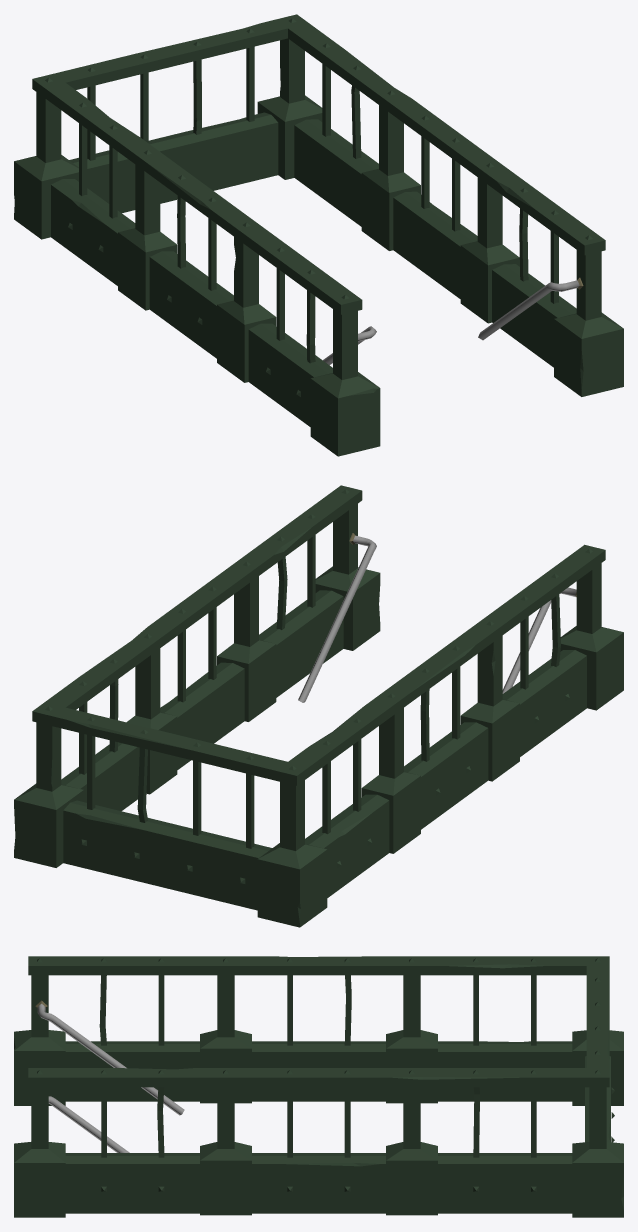
File: SW_ENV_StreetEntrance_01.fbx
3 views of the same model, one above another, from view 1: azimuth 30°, elevation 25°; view 2: azimuth 150°, elevation 25°; view 3: azimuth 270°, elevation 25° (orthographic). The views are drawn at different scales.
Parts seen in each view (by area): view 1: SW_ENV_StreetEntrance_01; view 2: SW_ENV_StreetEntrance_01; view 3: SW_ENV_StreetEntrance_01.
Part boxes in pixels (x1,y1,x2,y2): SW_ENV_StreetEntrance_01: (14,14,623,456); SW_ENV_StreetEntrance_01: (14,485,623,927); SW_ENV_StreetEntrance_01: (14,956,623,1217).
Size of the model in its own units: 2.7 by 1.37 by 5.3.
